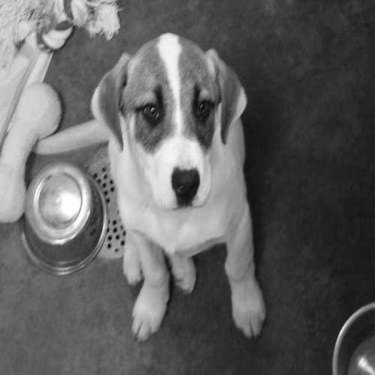dog: (27, 23, 272, 344)
